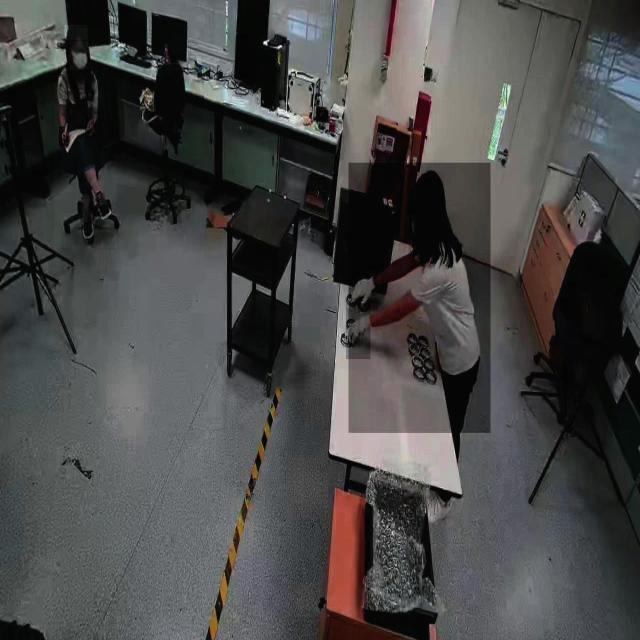face_mask: (70, 41, 88, 71)
hand_glove: (349, 260, 378, 311), (346, 303, 371, 360)
hand_noglove: (59, 126, 69, 147), (85, 117, 95, 135)
head_nohelmet: (408, 170, 446, 210), (64, 25, 88, 41)
person: (349, 162, 491, 434), (54, 28, 118, 249)
shoes: (77, 200, 95, 242), (92, 189, 112, 225)
